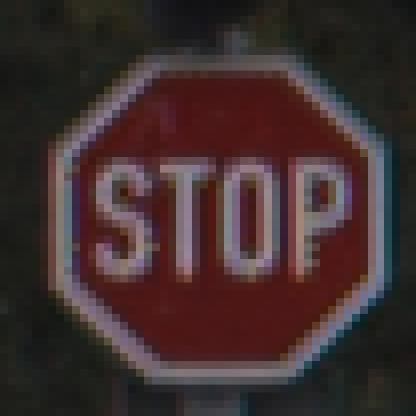Stop: (53, 54, 386, 384)
